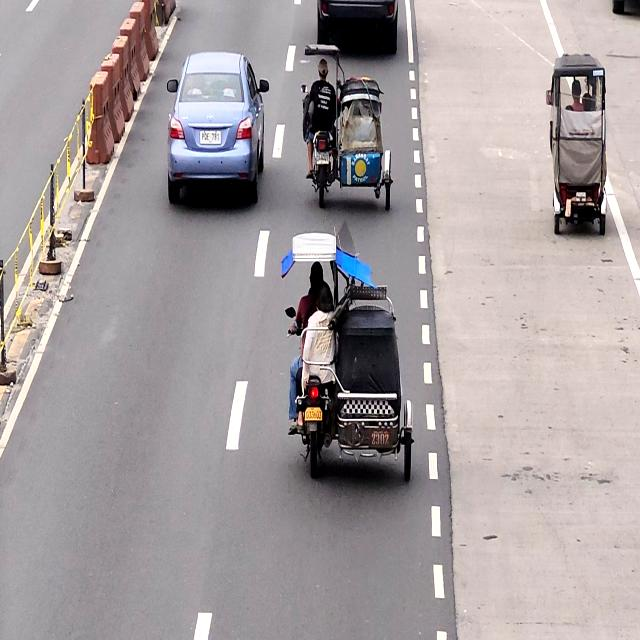Car: (165, 51, 262, 206)
License-Plate: (198, 128, 222, 145), (304, 405, 323, 425), (316, 152, 330, 166)
Tricycle: (287, 231, 412, 478), (302, 43, 392, 212)
